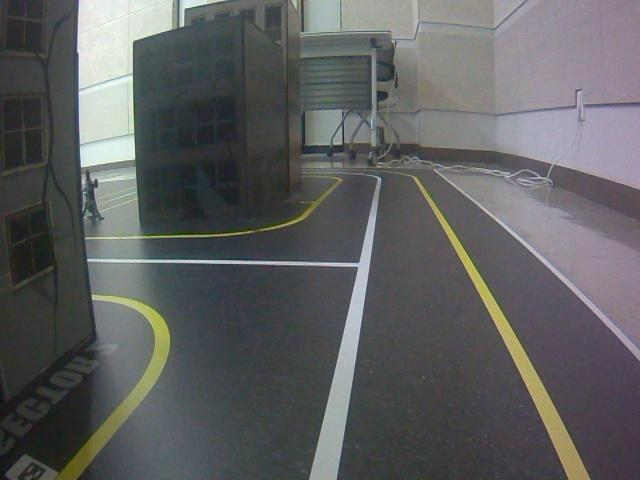Mortar: (83, 170, 104, 221)
